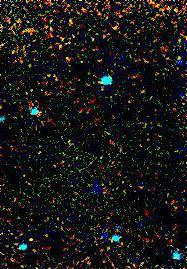star: (13, 224, 43, 254)
